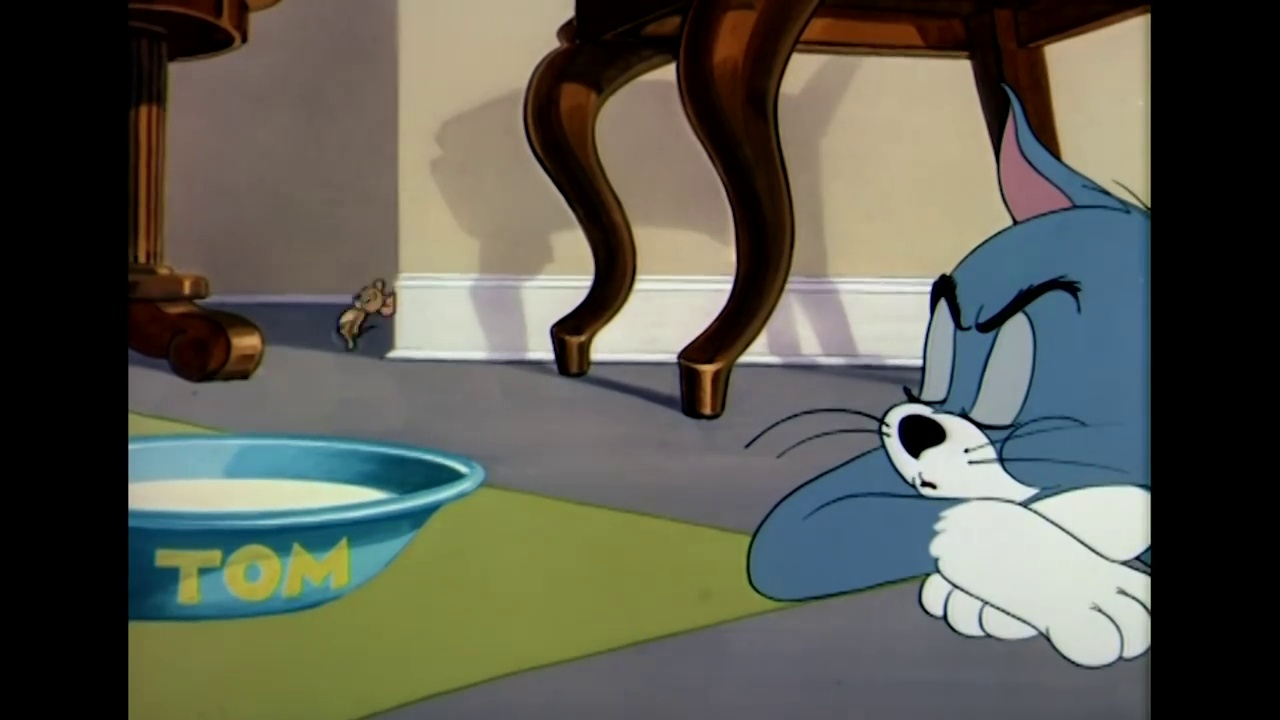tom: (875, 79, 1144, 513)
